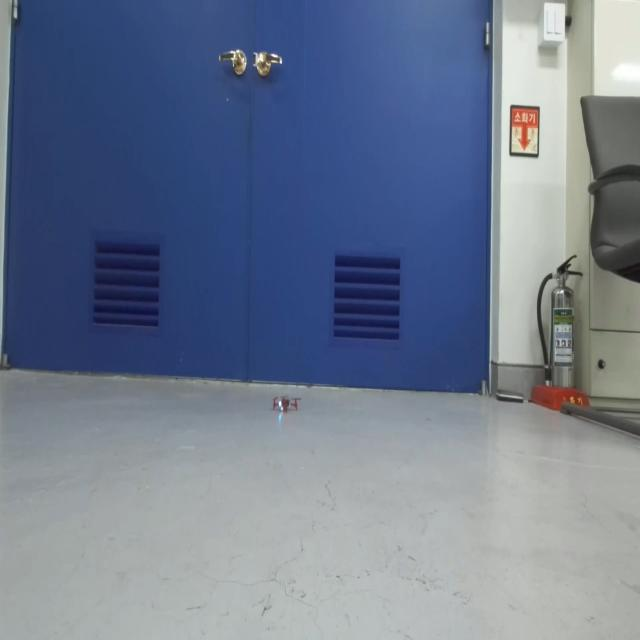crazyflie: (268, 387, 302, 418)
